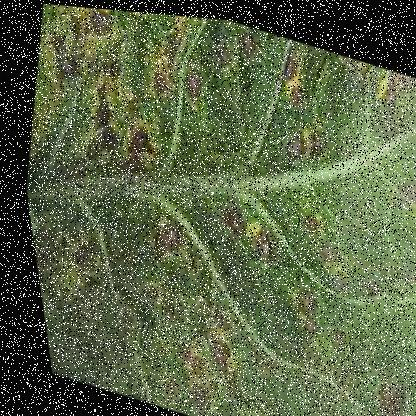AlternariaBrassicicola: (107, 101, 185, 184), (259, 106, 339, 181), (136, 206, 195, 271), (148, 330, 212, 386), (231, 216, 286, 277), (43, 29, 94, 94), (69, 5, 134, 51), (307, 305, 360, 361), (277, 271, 327, 321), (170, 60, 212, 114), (284, 200, 324, 239), (399, 198, 415, 276)
